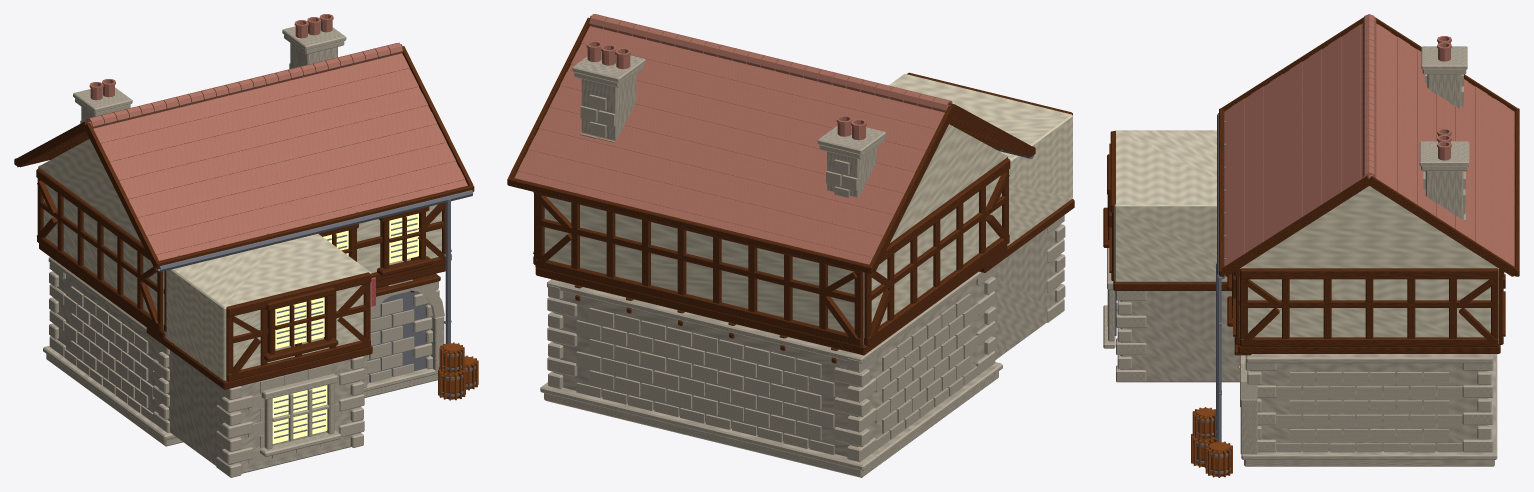
Rendered from fantasy-mmo-city-and-townsfolk-city-tavern-db20ff00__32738.glb.
The picture shows the model from 3 angles, left to right: view 1: azimuth 30°, elevation 25°; view 2: azimuth 150°, elevation 25°; view 3: azimuth 270°, elevation 25°; orthographic projection. The views are drawn at different scales.
Parts seen in each view (by area): view 1: city-tavern; view 2: city-tavern; view 3: city-tavern.
Part boxes in pixels (left/top/right/bottom): city-tavern: left=14, top=14, right=478, bottom=477; city-tavern: left=507, top=14, right=1074, bottom=477; city-tavern: left=1103, top=14, right=1519, bottom=477.
Size of the model in its own units: 11.34 by 10.1 by 12.21.
Materials: 9 (6 with a texture image).
